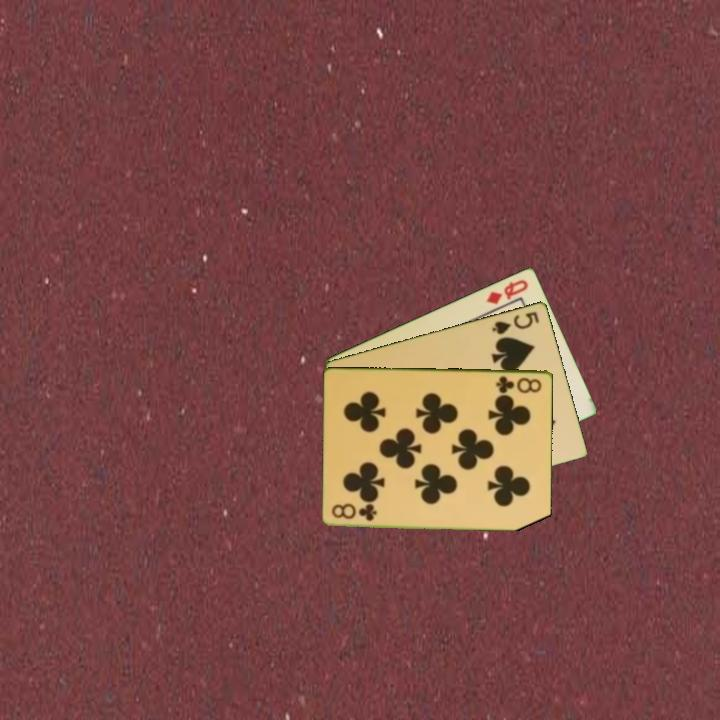5s: (489, 308, 542, 337)
8c: (493, 372, 545, 395), (328, 502, 380, 523)
Qd: (482, 275, 532, 307)
